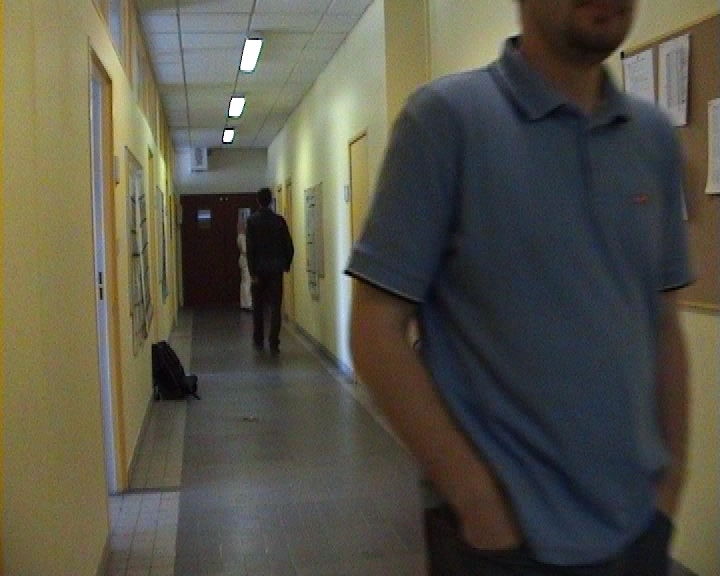leave bag unattended: (139, 321, 244, 445)
